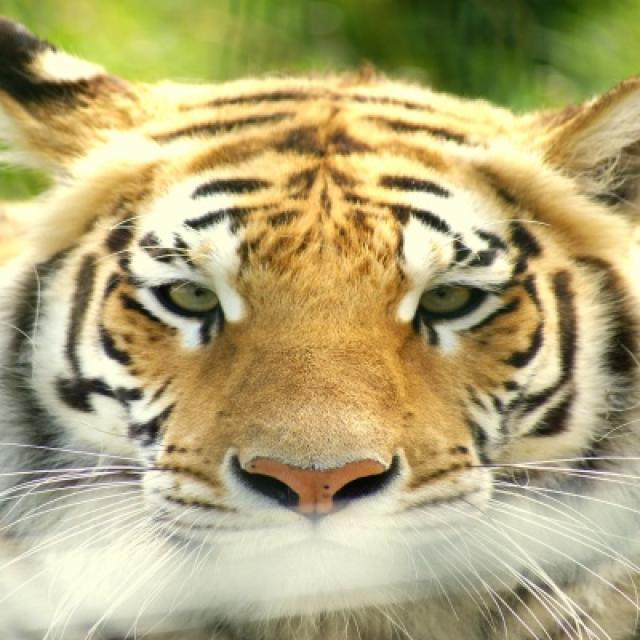Tiger: (2, 16, 638, 638)
